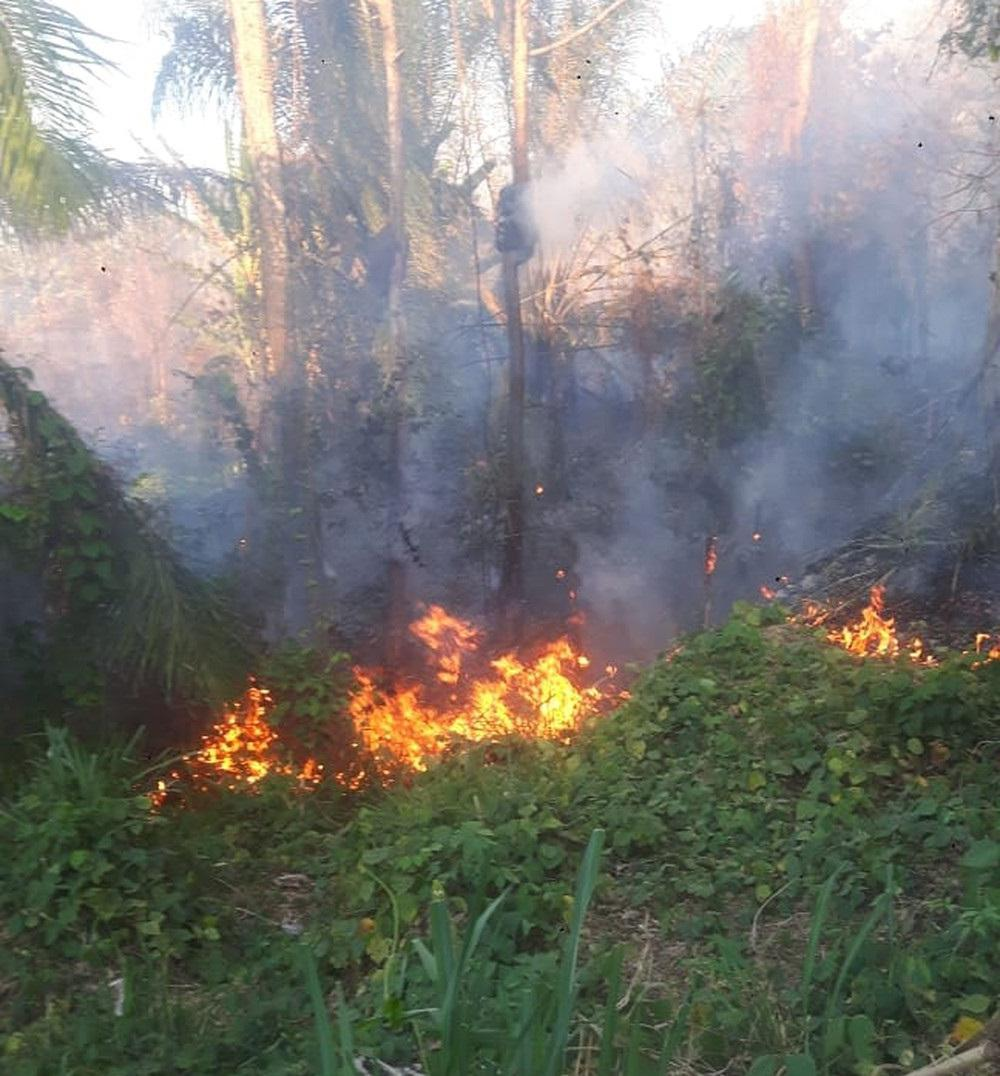Fire: (142, 596, 618, 810), (817, 576, 966, 668)
